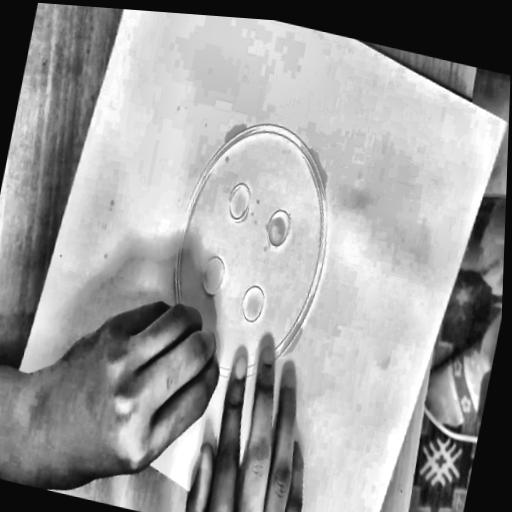bottom_right: (12, 366, 22, 380)
button: (125, 82, 376, 436)
top_left: (502, 115, 509, 128)
